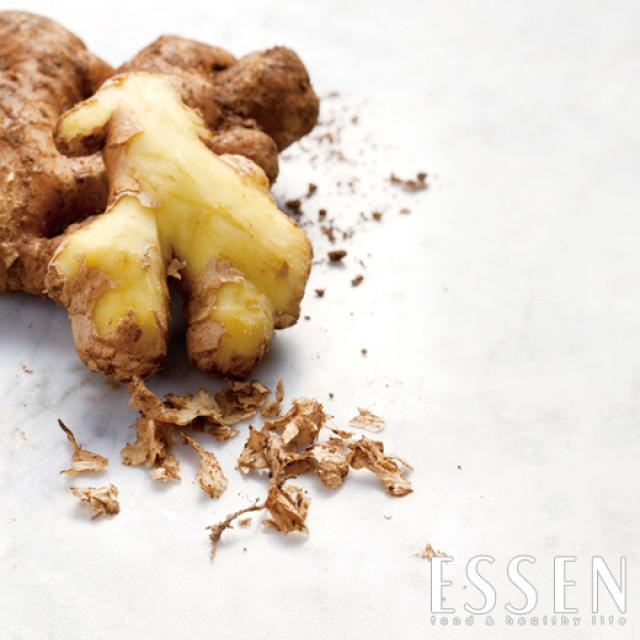ginger: (0, 0, 324, 403)
